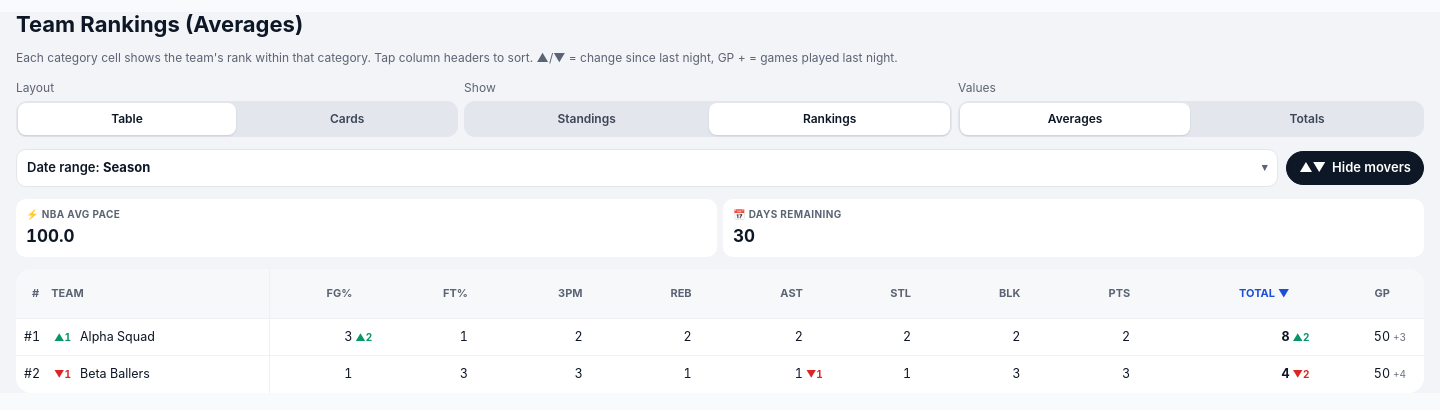
Test: Rankings page — phone redesign › Standings view shows rank, Total and GP moves and the places moved per category
Expected: the table is shown, left=16, top=269, right=1424, bottom=393
Expected: the text "Alpha Squad" shows "▲", left=54, top=331, right=64, bottom=343
Click the radio button labelled "Standings".
click(587, 119)  # box left=466, top=103, right=707, bottom=135
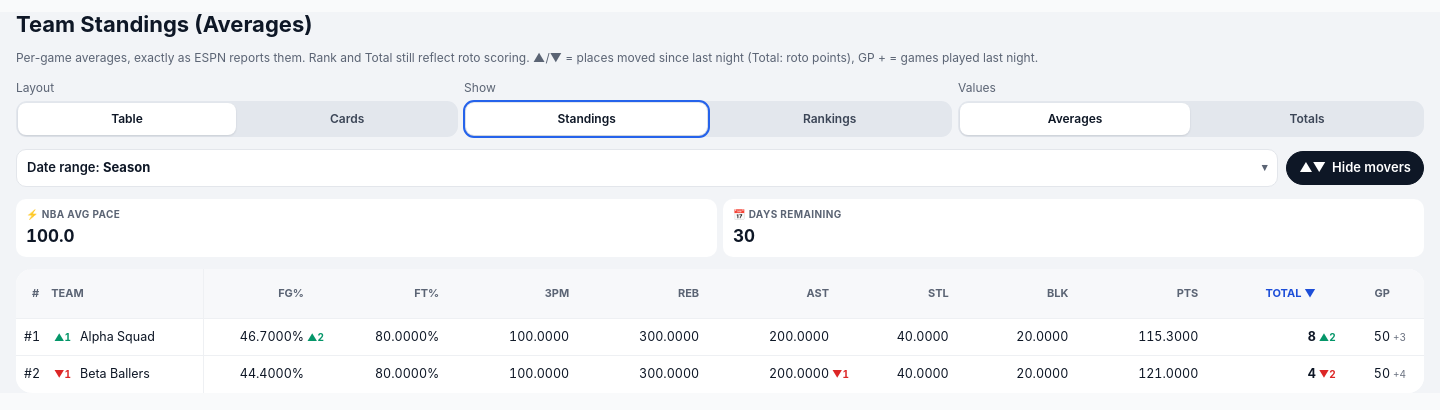
Now the heading "Team Standings (Averages)" is shown, box left=16, top=12, right=312, bottom=37
Now the cell "46.7000% ▲2" is shown, box left=203, top=318, right=338, bottom=356
Now the text "115.3000" is shown, box left=1138, top=329, right=1198, bottom=344
